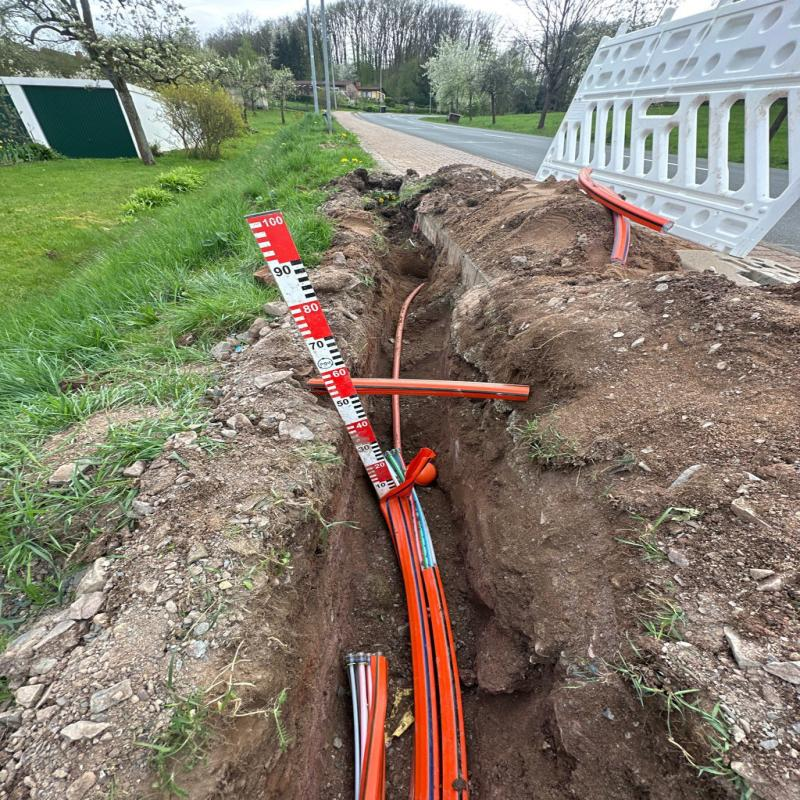Kugelmarker: (413, 463, 436, 486)
Orang-Speednetrohrchen: (378, 498, 437, 800), (412, 495, 466, 799), (344, 652, 389, 800)
